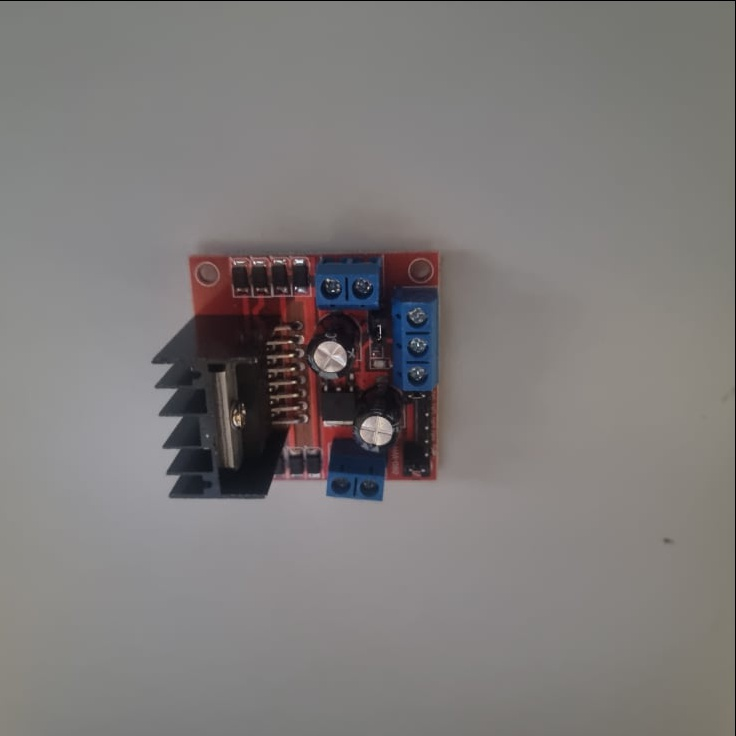MOTOR: (150, 245, 444, 499)
